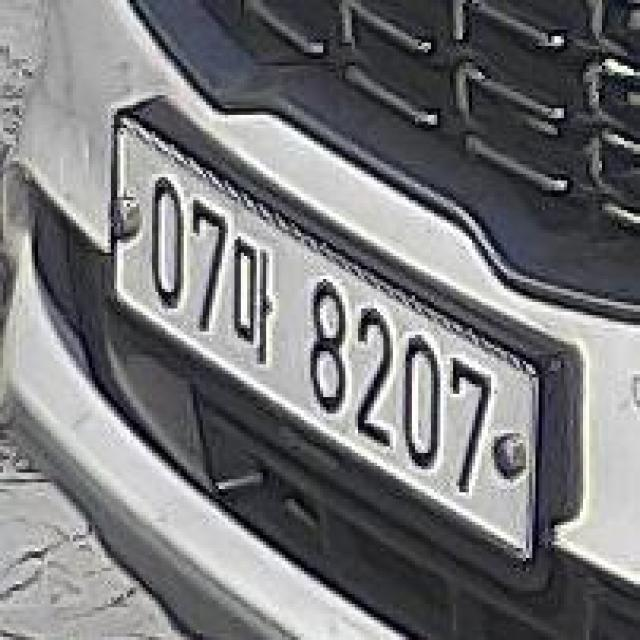illegal_plate: (100, 120, 552, 564)
